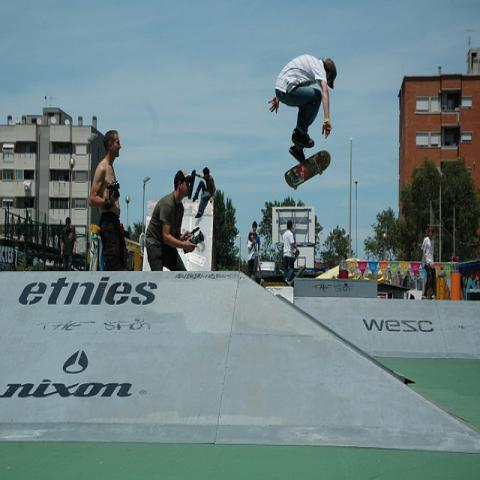car: (257, 260, 276, 284), (299, 266, 327, 279)
